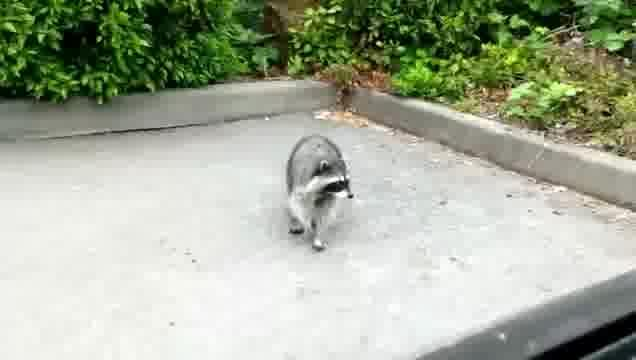raccoon: (282, 134, 354, 252)
